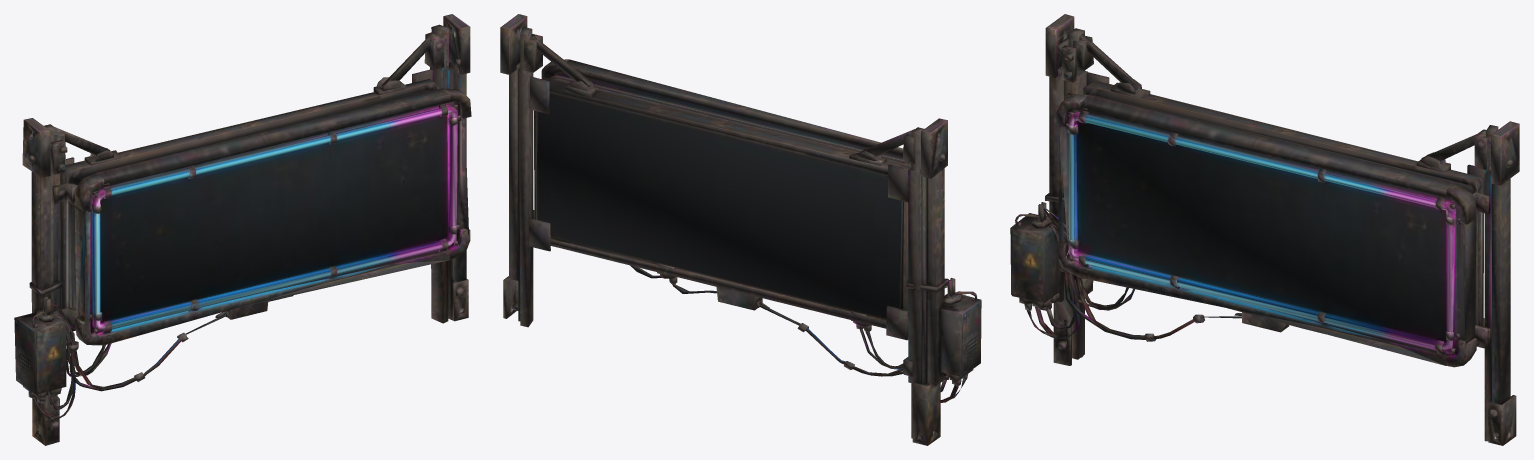
Rendered from neon_sign_frame_prop.glb.
The picture shows the model from 3 angles, left to right: view 1: azimuth 30°, elevation 25°; view 2: azimuth 150°, elevation 25°; view 3: azimuth 330°, elevation 25°; orthographic projection. The views are drawn at different scales.
Visible parts, largest first — view 1: Meshy_AI_neon_sign_frame_prop_3d_20261028_texture; view 2: Meshy_AI_neon_sign_frame_prop_3d_20261028_texture; view 3: Meshy_AI_neon_sign_frame_prop_3d_20261028_texture.
Boxes of the visible parts, bbox=[...] form: Meshy_AI_neon_sign_frame_prop_3d_20261028_texture: bbox=[14, 14, 471, 445]; Meshy_AI_neon_sign_frame_prop_3d_20261028_texture: bbox=[500, 14, 981, 445]; Meshy_AI_neon_sign_frame_prop_3d_20261028_texture: bbox=[1010, 14, 1519, 445].
Bounding box in the file's own units: 2.5 × 1.67 × 0.3366.
1 material, 1 textured.
